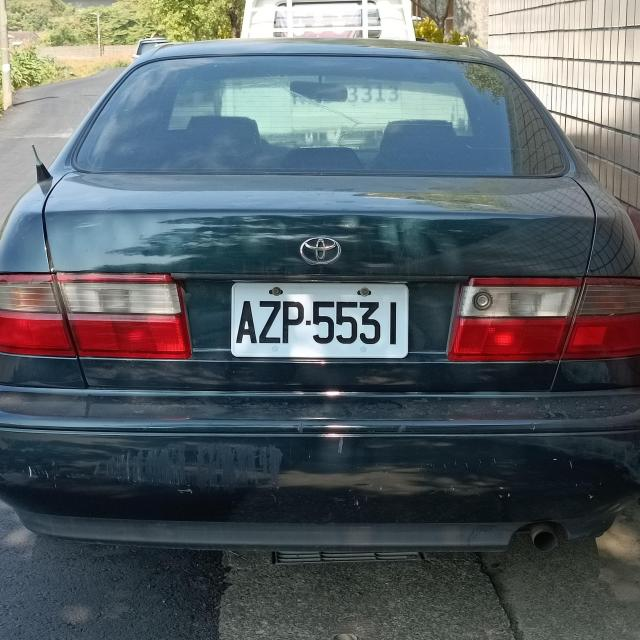W: (230, 283, 407, 358)
